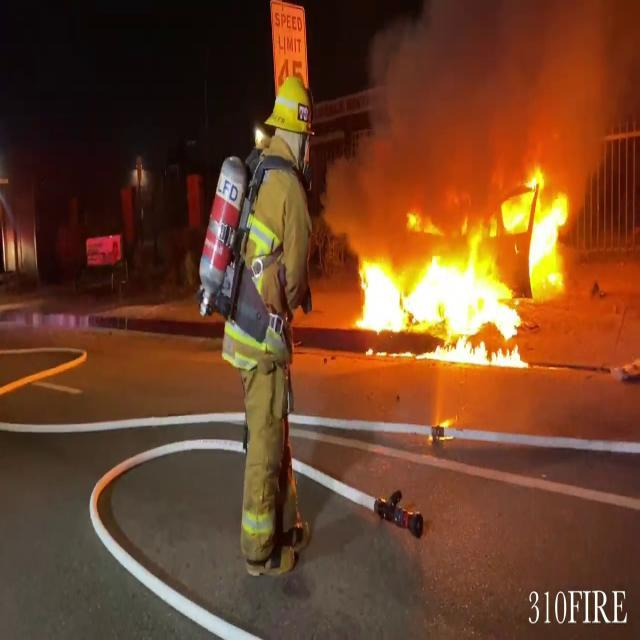Fire: (342, 156, 582, 370)
Smoke: (326, 0, 640, 188)
